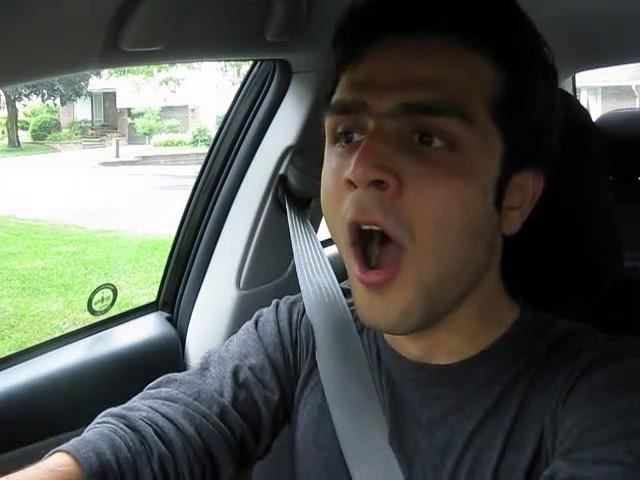open_eyeL: (318, 115, 379, 158)
open_eyeR: (390, 114, 482, 167)
yawn: (325, 208, 427, 293)
